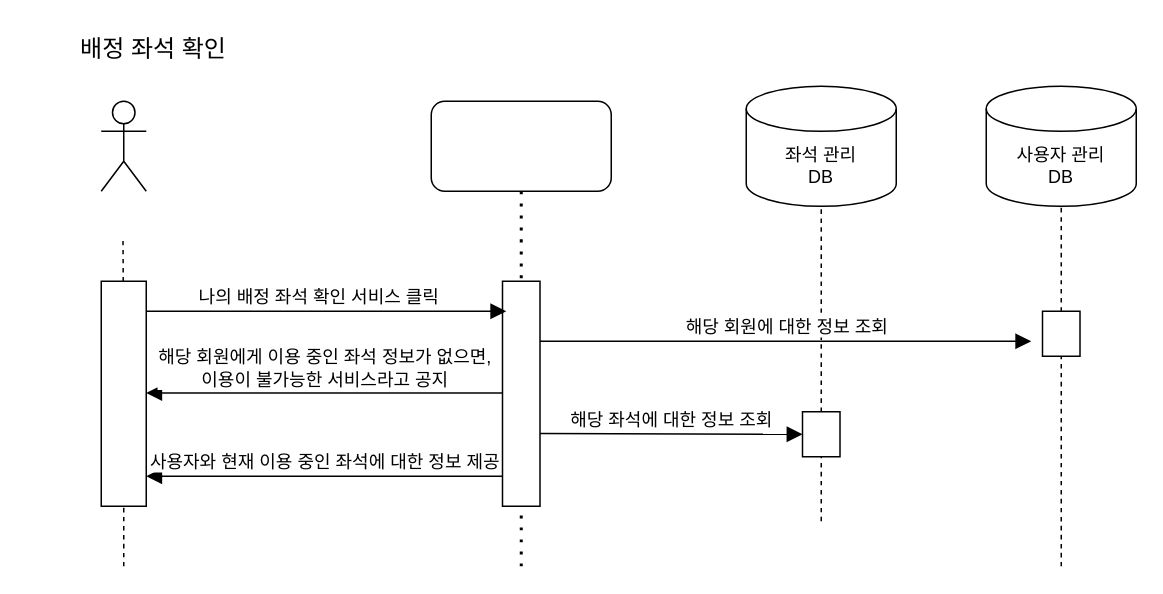
This 1163x594 diagram has some shape labels left out. The shapes that lost their labels are listed below. From the top down, each one's box as (x1, y1, x2, y2) in pixels, then its label:
(100, 100, 146, 191): 회원
(430, 100, 611, 191): 좌석 관리 서버
